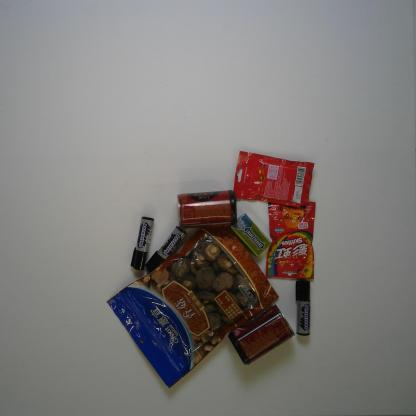Candy: (233, 150, 315, 210), (265, 201, 316, 280)
Canned Food: (227, 304, 296, 366), (176, 189, 237, 230)
Dried Food: (105, 225, 280, 390)
Gum: (230, 212, 272, 258)
Stationery: (144, 225, 187, 273), (130, 216, 154, 271), (295, 279, 311, 337)
